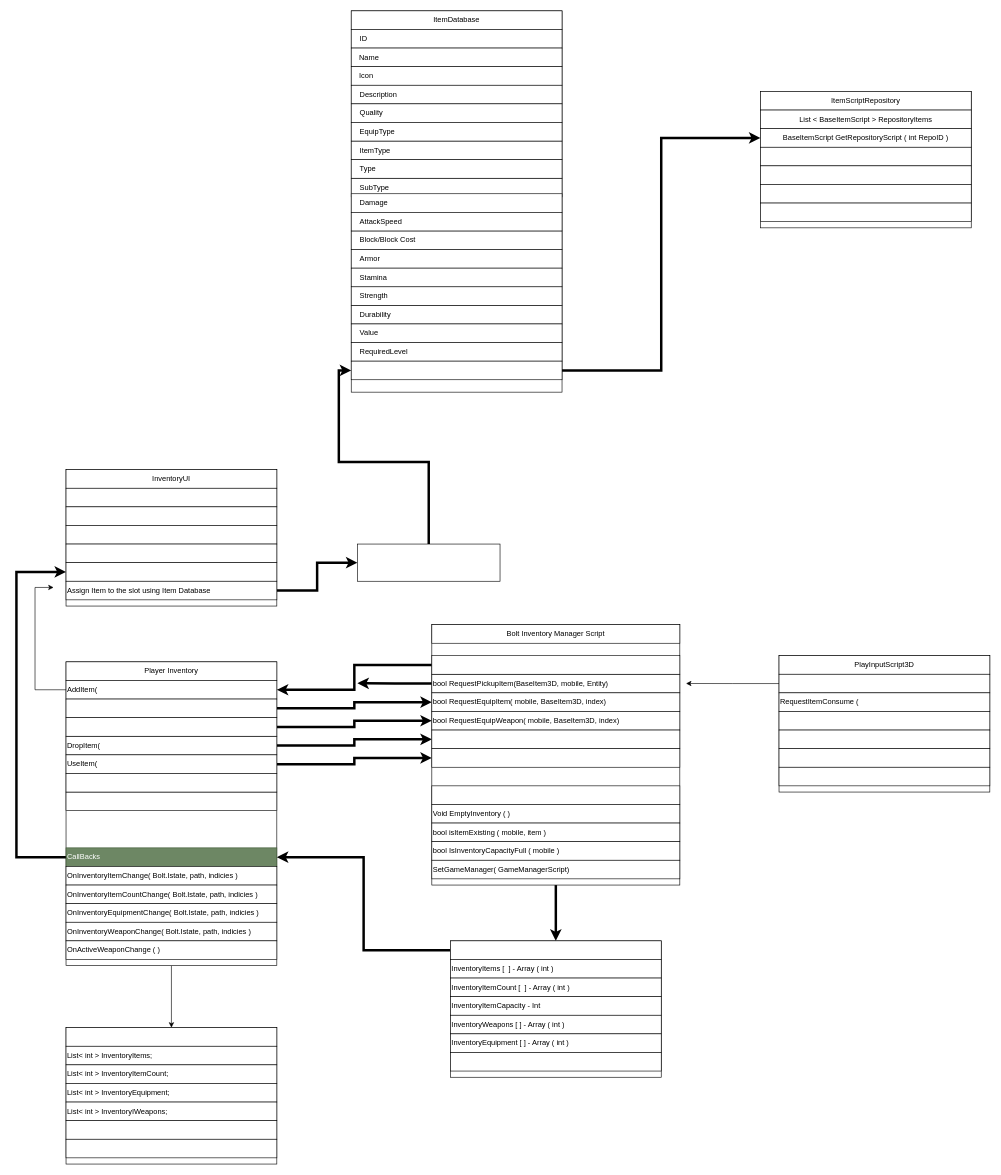
Image size: 1001x1175. Some labels were removed from this diagram. Each missing label, with the box of its shape:
Assign Listener for clicks Using the repository ID to search the Script repo: (357, 543, 500, 581)
Bolt Inventory States: (450, 940, 661, 959)
bool RequestAddIventoryItem ( mobile, BaseItem3D, amt, obj ): (431, 655, 680, 674)
bool RequestDropItem( mobile, BaseItem3D, index): (431, 729, 680, 749)
bool RequestUseConsumeable( mobile, BaseItem3D, index): (431, 748, 680, 767)
EquipItem(: (65, 698, 277, 718)
EquipWeapon(: (65, 717, 277, 736)
InventoryState ( SAVING ): (65, 1027, 277, 1046)
RepositoryID: (351, 361, 562, 380)
RequestItemPickup(: (778, 674, 990, 693)
Update Item Slot From Callback: (65, 562, 277, 581)
